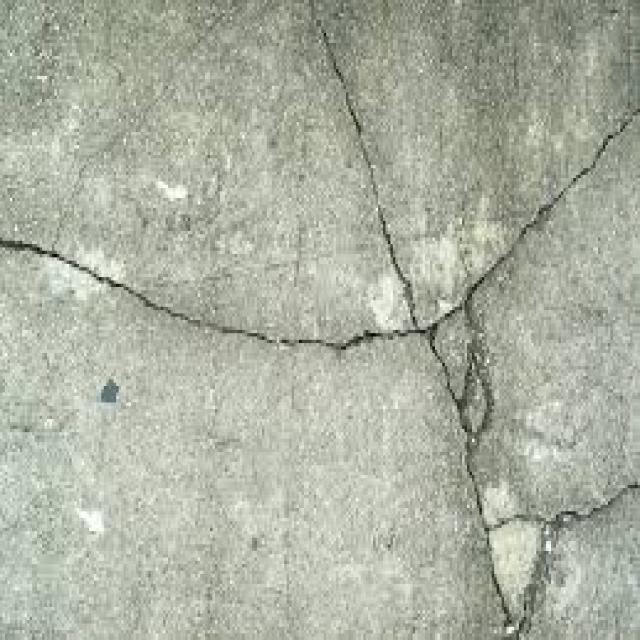crack: (0, 204, 505, 412), (459, 310, 639, 639)
